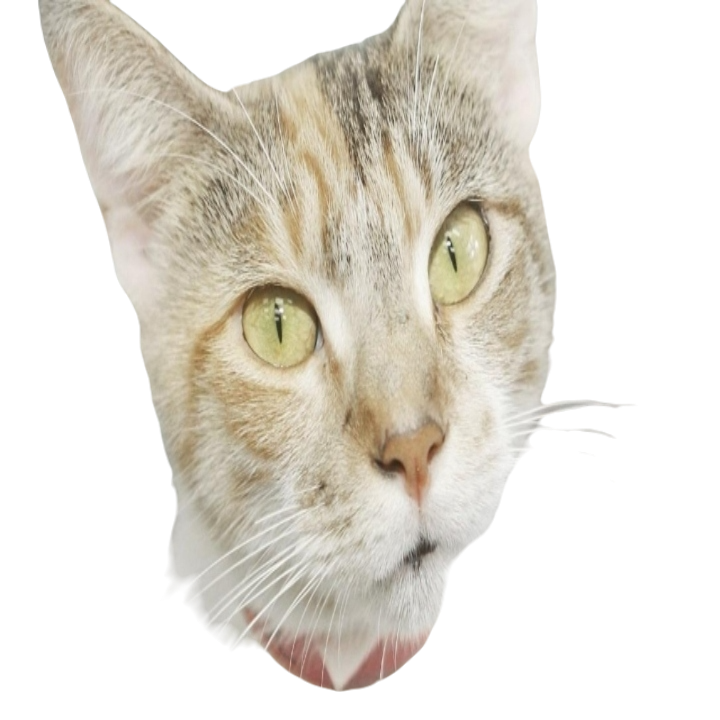Cat: (26, 0, 571, 696)
